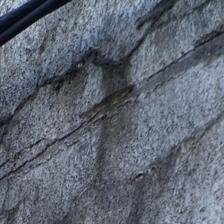Crack: (67, 102, 142, 224), (9, 54, 100, 118)
